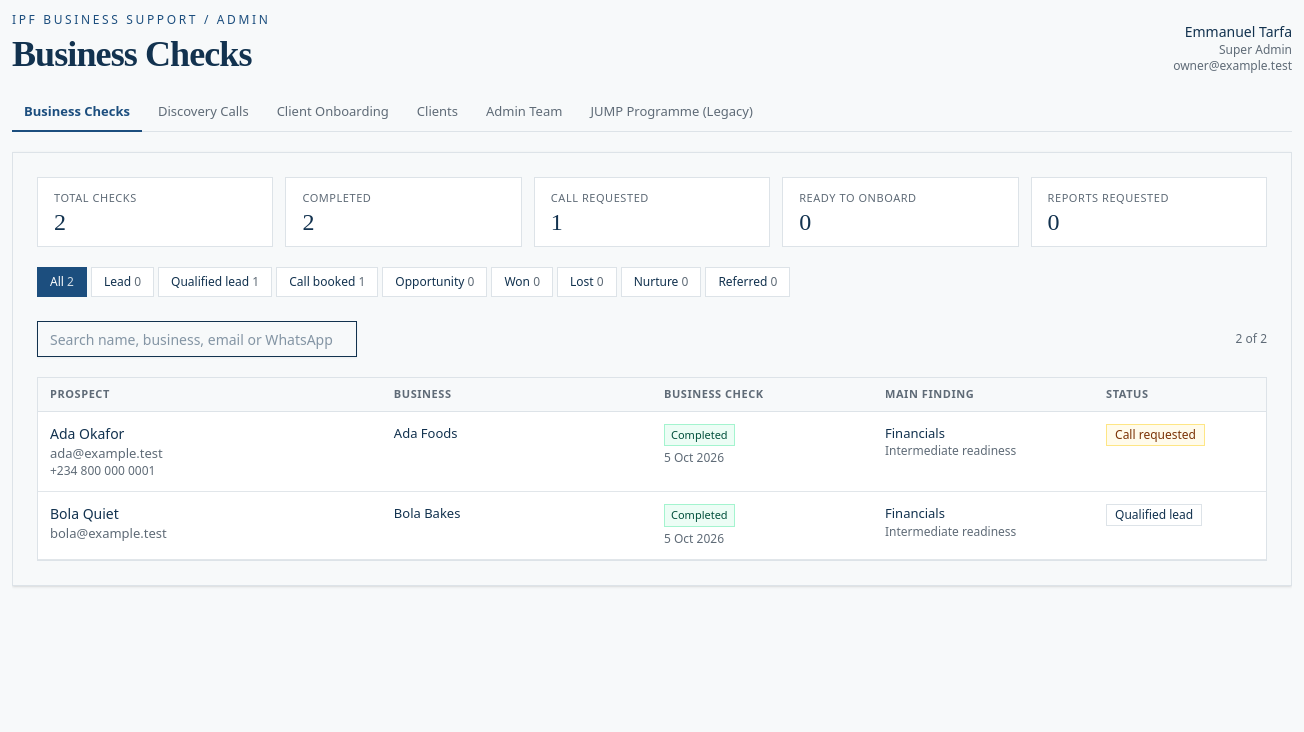
Test case: which sections each person sees (decided from what the server resolved) › keeps Client Onboarding reachable for the Super Admin, from the server's answer alone
Click the button "Client Onboarding": (333, 113) [265,94,401,132]
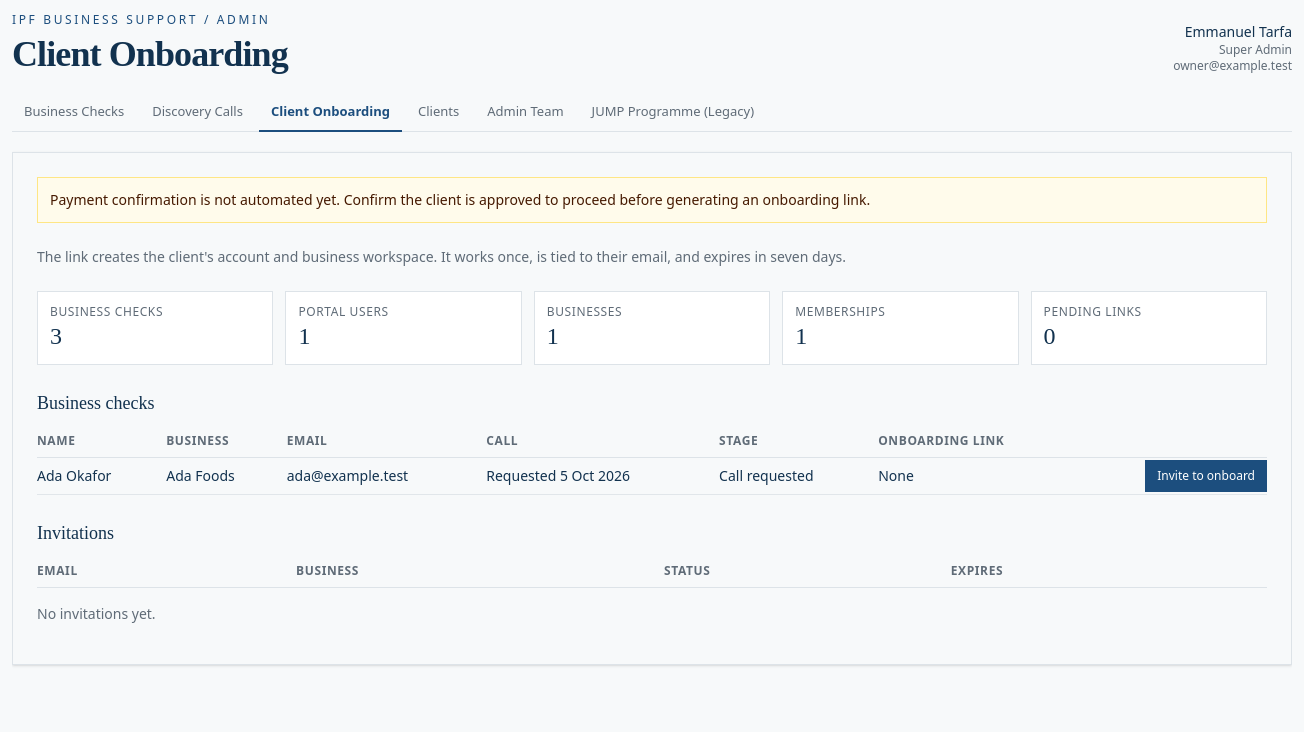
Expected: the heading "Client Onboarding" is shown, [12,34,288,74]
